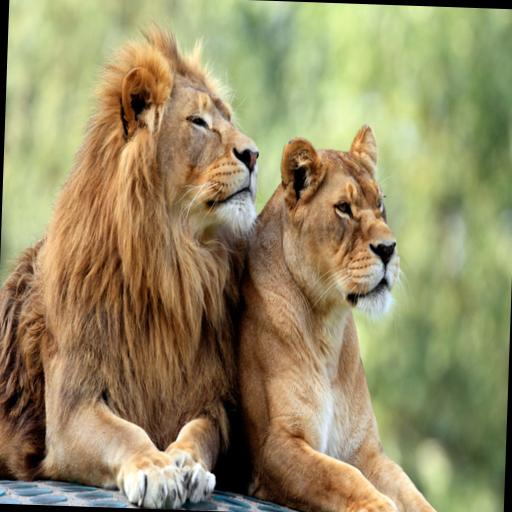lions: (16, 36, 466, 496)
